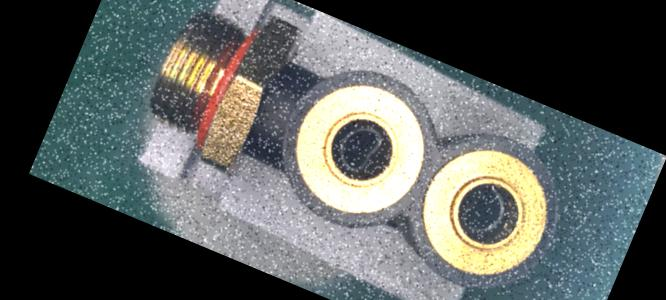off-centered: (449, 171, 515, 244), (325, 115, 389, 184)
